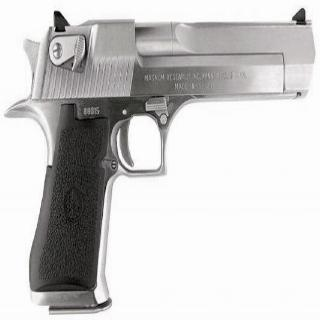gun: (5, 0, 318, 315)
